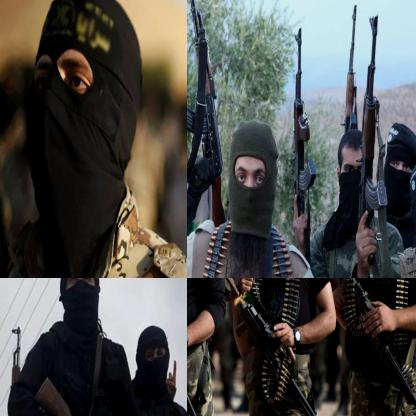rifle: (222, 278, 359, 415), (314, 278, 415, 415), (187, 0, 227, 227), (355, 15, 389, 226), (32, 374, 179, 415), (291, 27, 316, 249), (8, 326, 42, 415), (340, 4, 358, 132)
